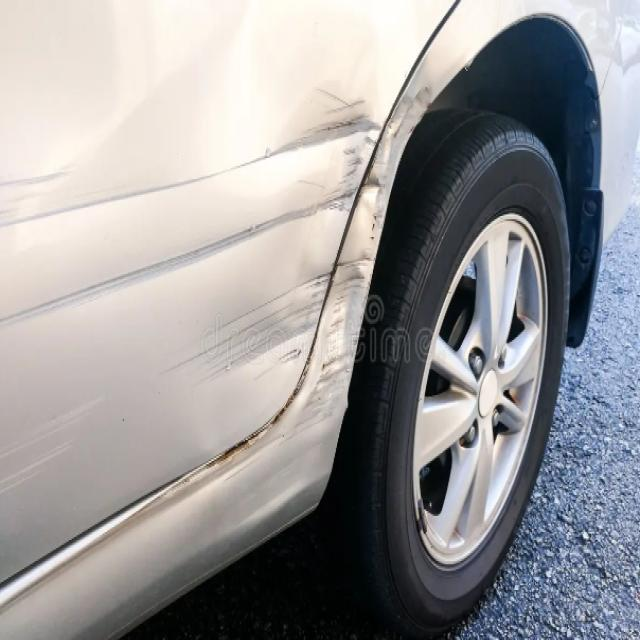scratch: (6, 87, 413, 458)
